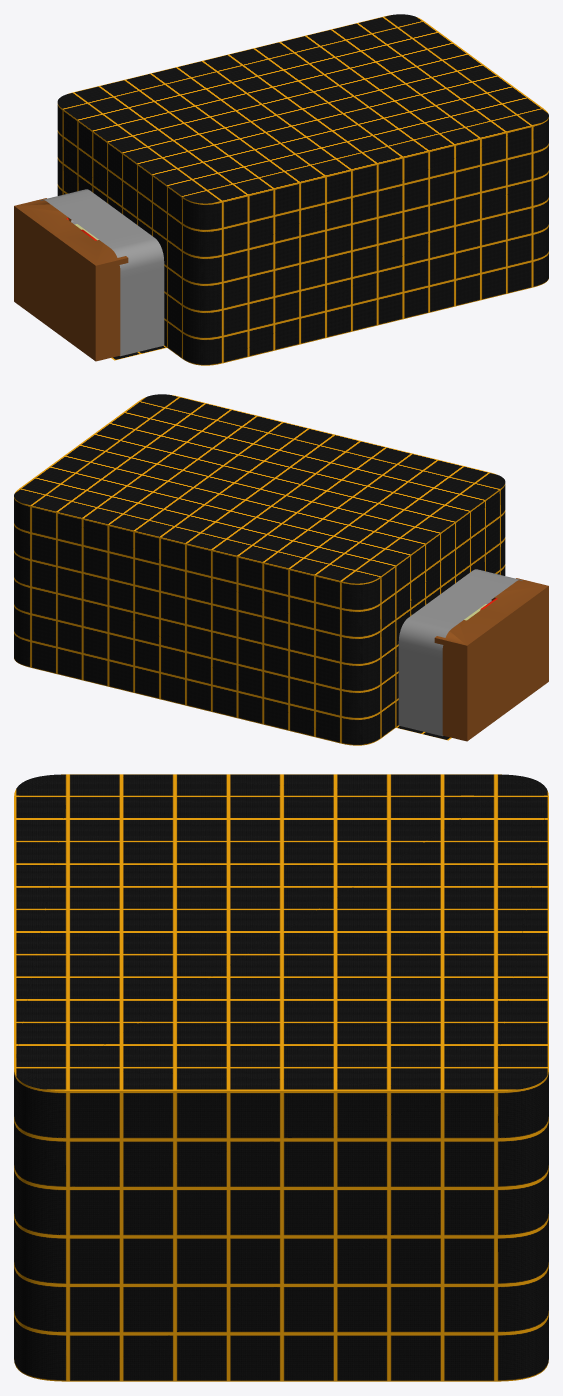
File: holodeck.obj
The picture shows the model from 3 angles, top to bottom: view 1: azimuth 30°, elevation 25°; view 2: azimuth 150°, elevation 25°; view 3: azimuth 270°, elevation 25°; orthographic projection. The views are drawn at different scales.
Visible parts, largest first — view 1: holodeckroom, holodeck_door, holodeckdoorrecess; view 2: holodeckroom, holodeck_door, holodeckdoorrecess; view 3: holodeckroom.
Boxes of the visible parts, left/top/right/bottom form: holodeckroom: left=57, top=14, right=548, bottom=365; holodeck_door: left=14, top=198, right=128, bottom=361; holodeckdoorrecess: left=40, top=189, right=164, bottom=356; holodeckroom: left=14, top=394, right=505, bottom=745; holodeck_door: left=434, top=578, right=548, bottom=741; holodeckdoorrecess: left=398, top=569, right=522, bottom=736; holodeckroom: left=14, top=774, right=548, bottom=1381.
Size of the model in its own units: 831 by 300 by 500.
7 materials, 1 textured.
